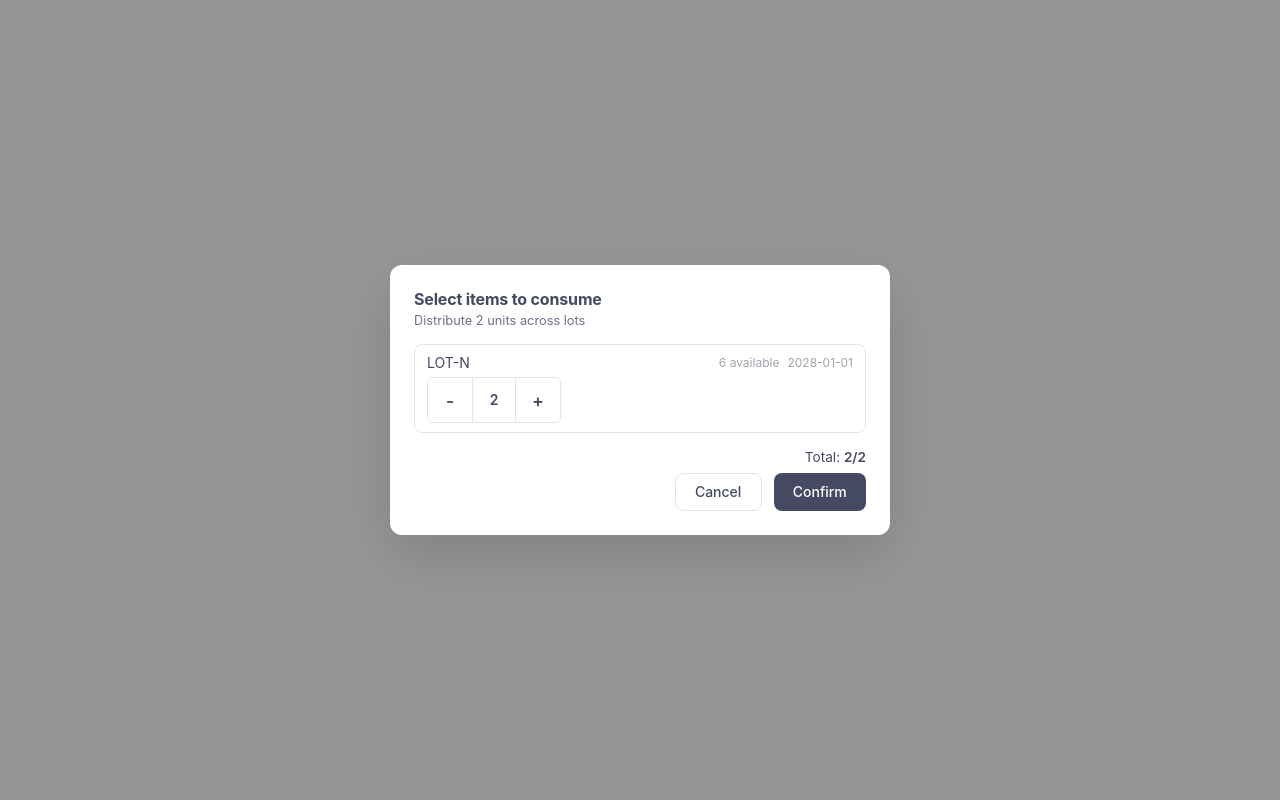
Test: LotConsumeModal — pack step › shows the unidentified units as read-only when several units are consumed
What coordinates should you click on to do the following:
click the button "Confirm"
I would click on:
 (820, 492)
Its box is 774,473 -> 866,511.
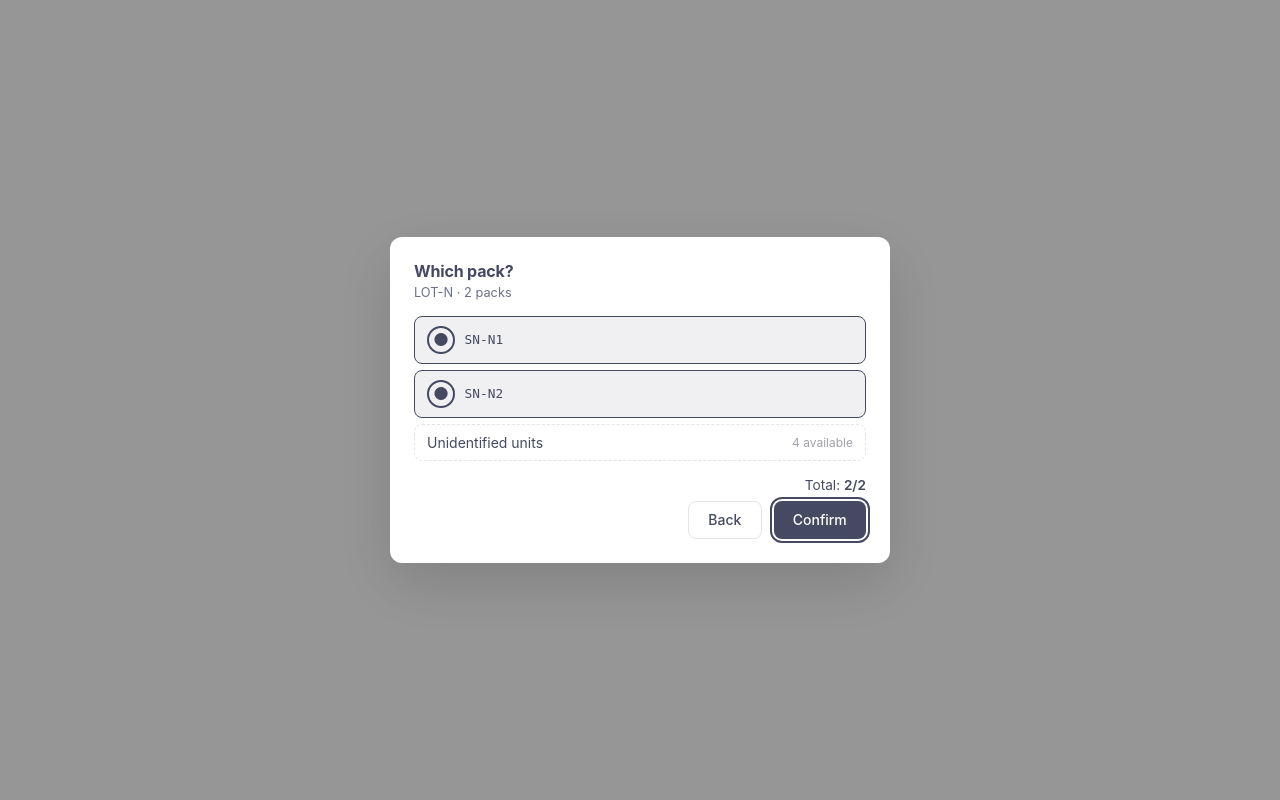
Check: the list item with test id "bulk-row" shows "4 available", box 414,424 -> 866,461
